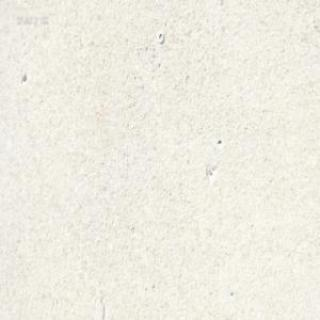Washertrack_idkeyframe: (156, 32, 163, 43)
